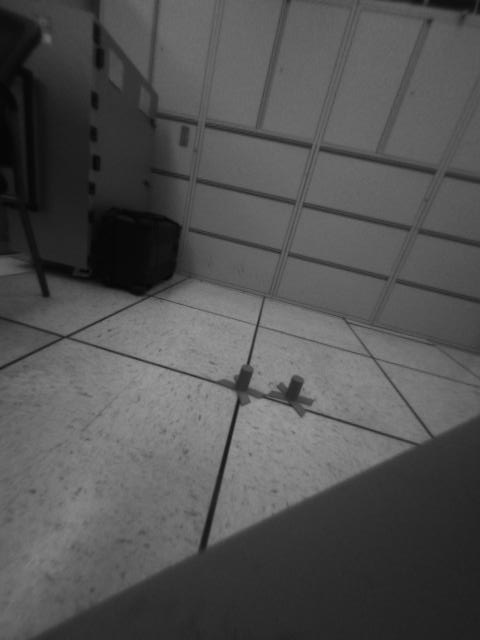X: (266, 372, 315, 418), (216, 365, 267, 406)
